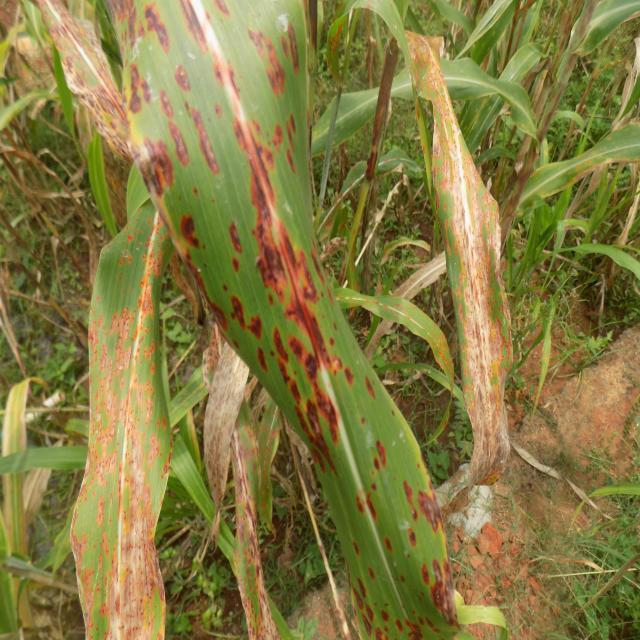millet_healthy: (302, 50, 531, 156), (164, 438, 257, 606), (70, 76, 122, 256), (570, 236, 640, 279)
millet_rust: (103, 0, 465, 638), (386, 17, 517, 514), (75, 187, 175, 640), (30, 0, 167, 188), (210, 369, 286, 640), (199, 297, 250, 576), (514, 108, 640, 217), (0, 361, 47, 639), (371, 244, 451, 345)
